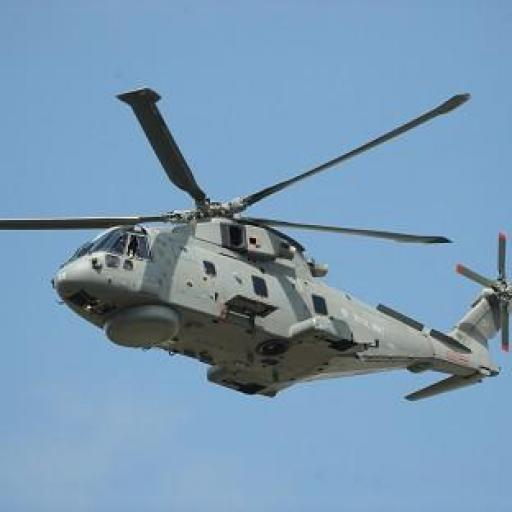helicopter: (5, 87, 512, 412)
